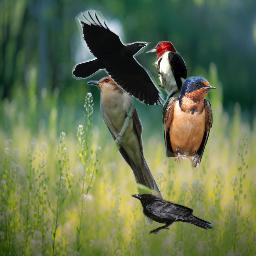Crow: (72, 9, 165, 105), (131, 193, 214, 235)
Cuckoo: (87, 76, 166, 226)
Swallow: (162, 76, 216, 169)
Woodpecker: (145, 41, 189, 115)
